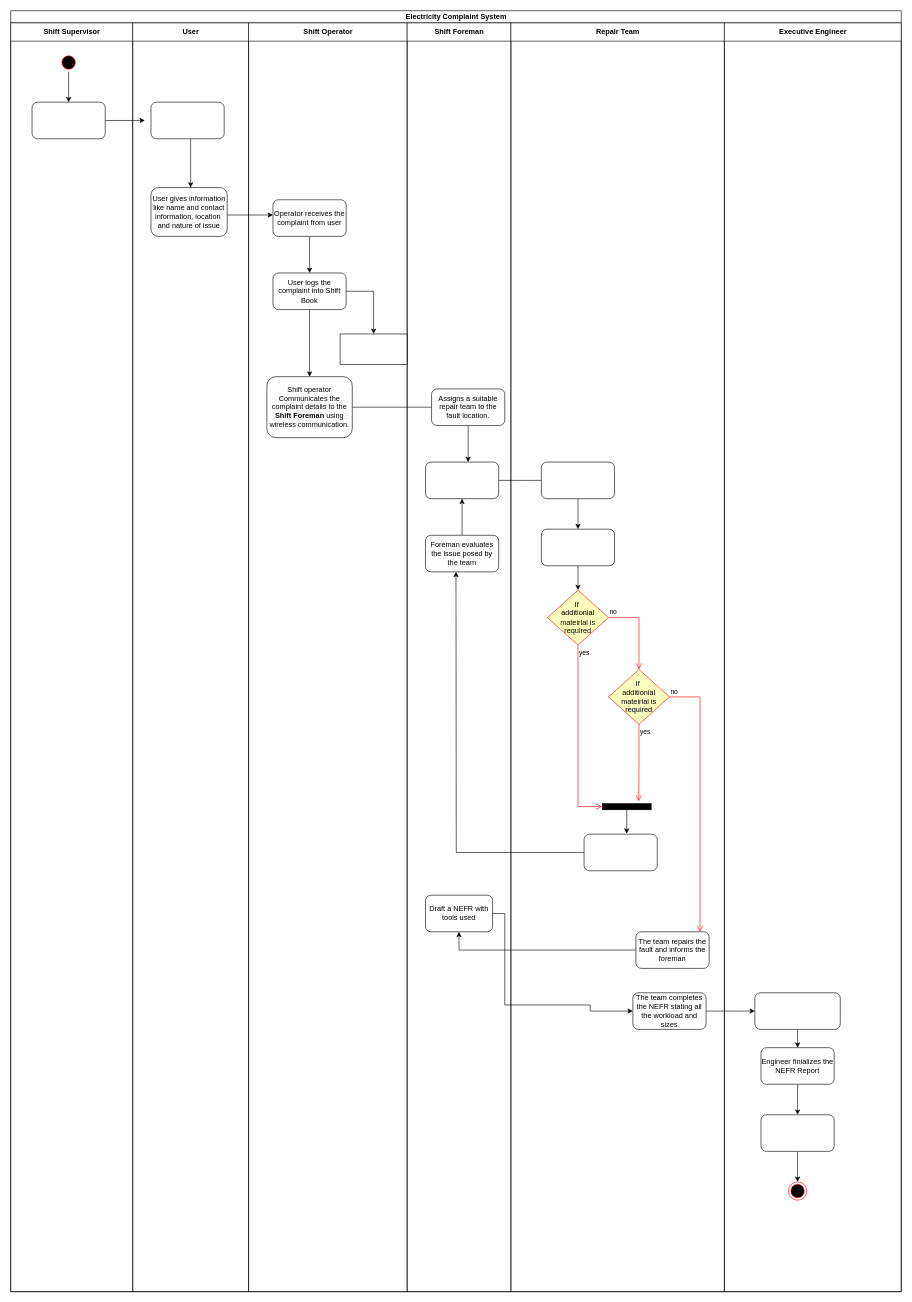
Image size: 912x1302. Some labels were removed from this diagram. Each missing label, with the centre of its shape:
"All work is done and documented." goes at [797,1132].
"Arrives at location and inspects the fault" goes at [578,547].
"Collects the NEFR report" goes at [797,1010].
"Informs foreman about the problem with necessary constraints" goes at [620,852].
"Passes the instruction to repair team" goes at [462,480].
"Shift Book" goes at [373,348].
"Supervisor assigns shifts and examines tools, materials" goes at [68,120].
"Team proceeds to fault site" goes at [578,480].
"User contacts shift operator to file a complaint" goes at [187,120].
